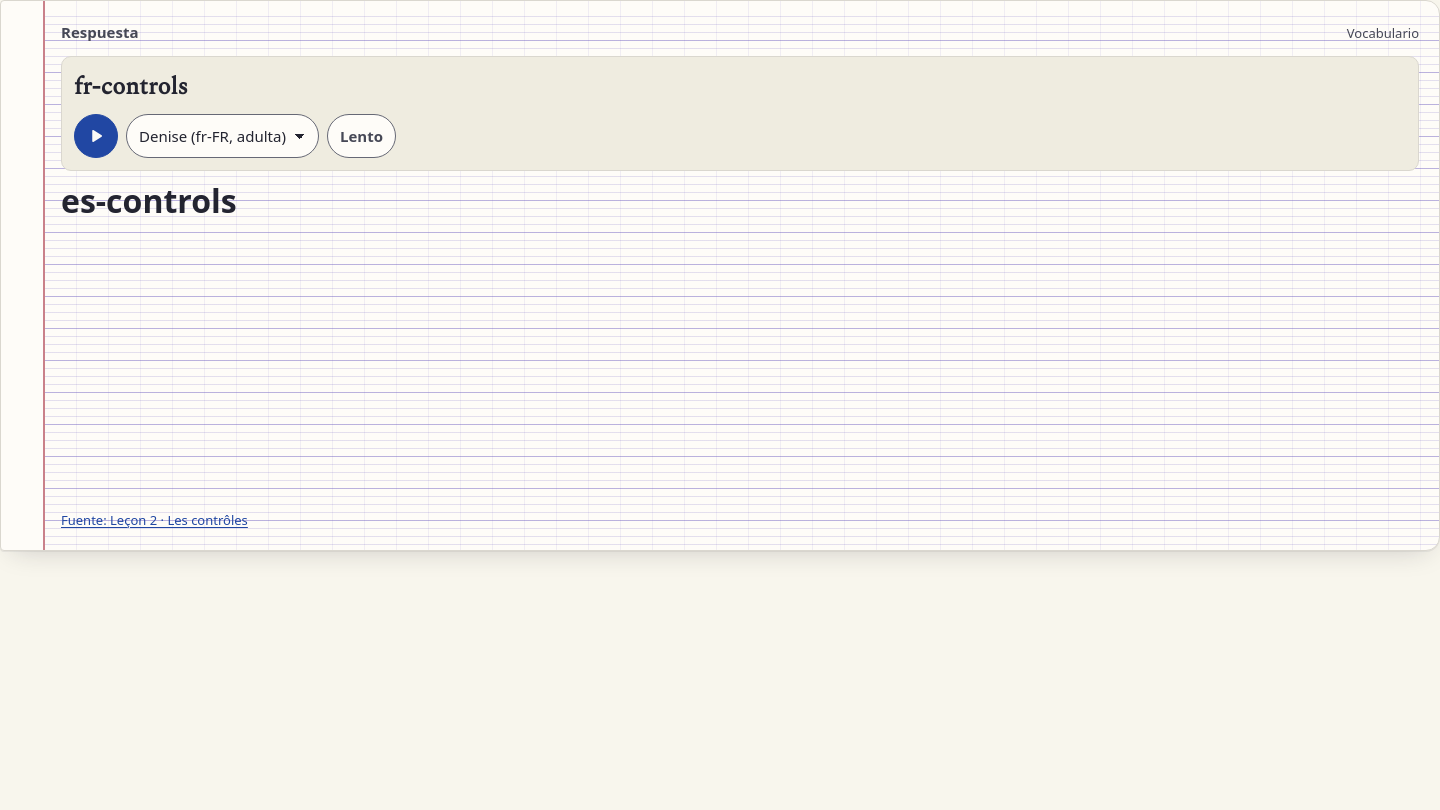
Test case: los controles internos de la tarjeta no secuestran el puntero y reciben el clic
Later steps or results of the test are not shown.
Press the mouse on the button named "Reproducir": coordinates (96, 136) [74, 114, 118, 158]
Press the mouse on the button named "Reproducir": coordinates (96, 136) [74, 114, 118, 158]
Press the mouse on the button "Lento": coordinates (362, 136) [327, 114, 396, 158]
Press the mouse on the dropdown named "Voz": coordinates (222, 136) [126, 114, 319, 158]
Press the mouse on the link "Fuente: Leçon 2 · Les contrôles": coordinates (154, 520) [61, 511, 248, 529]
Press the mouse on the button named "Reproducir": coordinates (96, 136) [74, 114, 118, 158]
Click the button "Lento": coordinates (362, 136) [327, 114, 396, 158]
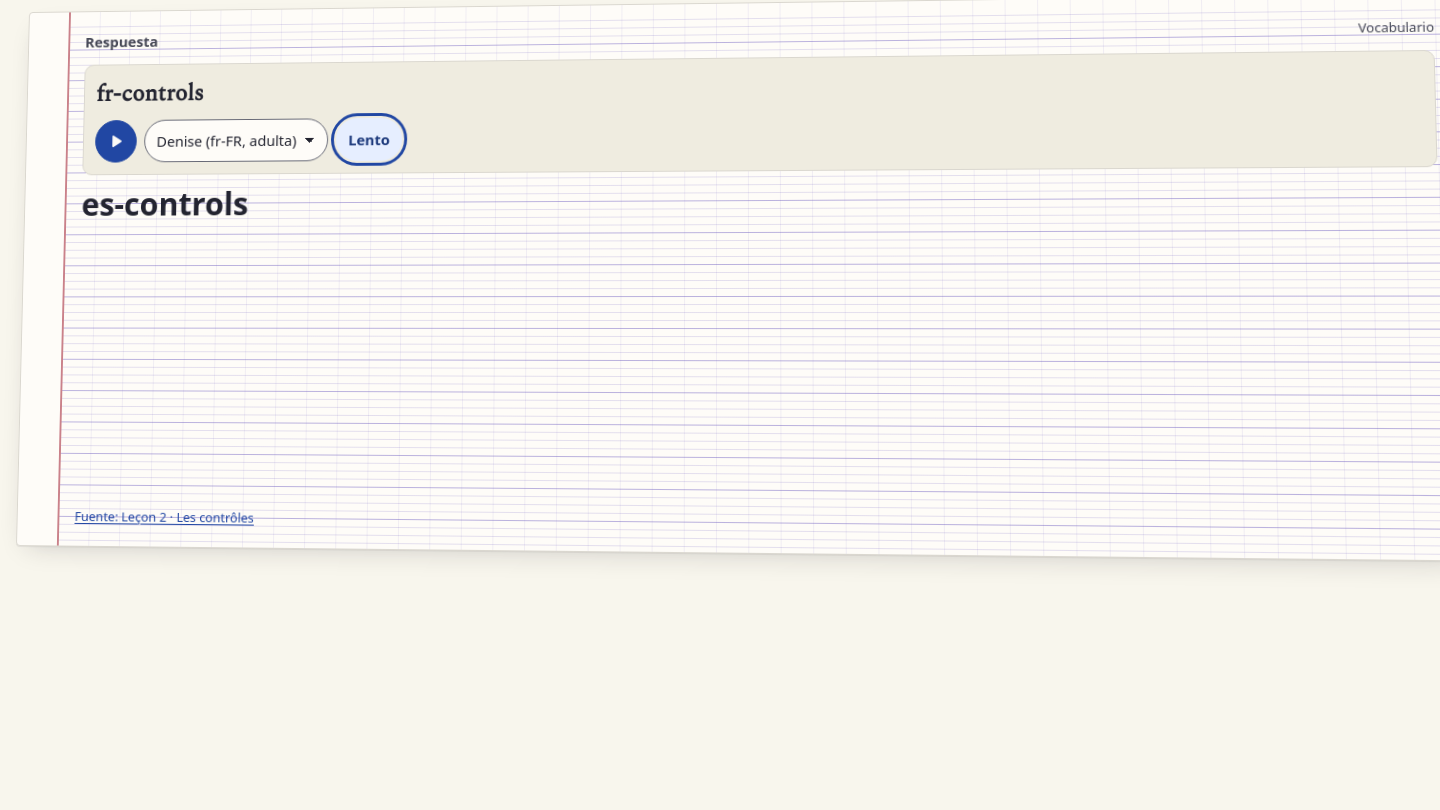
expect the button "Lento" is pressed: met, box [336, 118, 402, 162]
